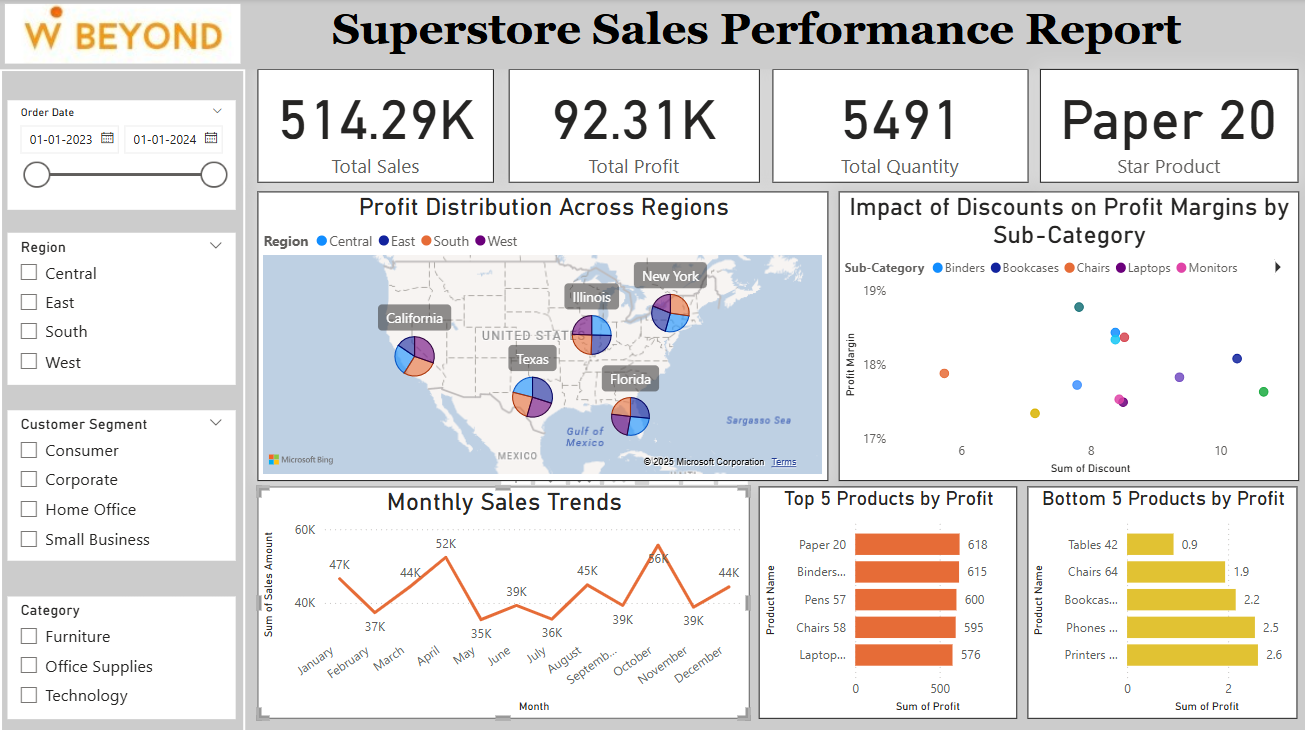

The page's visual inventory and layout, read from the dashboard file:
{"tool":"powerbi","page":{"name":"Sales Report","canvas":[1280,720],"ordinal":0},"visuals":[{"type":"shape","box":[0,68.6,240,651.4],"z":0},{"type":"card","fields":{"Values":["Sum(Sheet1.Sales Amount)"]},"box":[251.4,68.6,231.4,111.4],"z":1000},{"type":"card","fields":{"Values":["Sum(Sheet1.Profit)"]},"box":[497.1,68.6,245.7,111.4],"z":2000},{"type":"card","fields":{"Values":["Sum(Sheet1.Quantity)"]},"box":[755.7,68.6,250,111.4],"z":3000},{"type":"lineChart","title":"Monthly Sales Trends","fields":{"Category":["Sheet1.Order Date.Variation.Date Hierarchy.Year","Sheet1.Order Date.Variation.Date Hierarchy.Quarter","Sheet1.Order Date.Variation.Date Hierarchy.Month","Sheet1.Order Date.Variation.Date Hierarchy.Day"],"Y":["Sum(Sheet1.Sales Amount)"]},"box":[251.4,477.1,481.4,227.1],"z":4000},{"type":"map","title":"Profit Distribution Across Regions","fields":{"Category":["Sheet1.State"],"Size":["Sum(Sheet1.Profit)"],"Series":["Sheet1.Region"]},"box":[251.4,188.6,558.6,282.9],"z":5000},{"type":"barChart","title":"Top 5 Products by Profit","fields":{"Y":["Sum(Sheet1.Profit)"],"Category":["Sheet1.Product Name"]},"box":[742.9,477.1,252.9,227.1],"z":6000},{"type":"scatterChart","title":"Impact of Discounts on Profit Margins by Sub-Category","fields":{"X":["Sum(Sheet1.Discount)"],"Y":["Sheet1.Profit Margin"],"Series":["Sheet1.Sub-Category"],"Category":["Sheet1.Sub-Category"]},"box":[820,188.6,450,282.9],"z":7000},{"type":"slicer","fields":{"Values":["Sheet1.Order Date"]},"box":[7.1,98.6,222.9,107.1],"z":8000},{"type":"slicer","fields":{"Values":["Sheet1.Region"]},"box":[7.1,228.6,222.9,148.6],"z":9000},{"type":"slicer","fields":{"Values":["Sheet1.Customer Segment"]},"box":[7.1,402.9,222.9,147.1],"z":10000},{"type":"slicer","fields":{"Values":["Sheet1.Category"]},"box":[7.1,584.3,222.9,120],"z":11000},{"type":"barChart","title":"Bottom 5 Products by Profit","fields":{"Category":["Sheet1.Product Name"],"Y":["Sum(Sheet1.Profit)"]},"box":[1005.7,477.1,264.3,227.1],"z":12000},{"type":"textbox","box":[0,0,1280,68.6],"z":13000},{"type":"image","box":[0,0,240,68.6],"z":14000},{"type":"card","fields":{"Values":["Min(Sheet1.Product Name)"]},"box":[1017.1,68.6,252.9,111.4],"z":15000}]}

Visuals, with their boxes in screenshot pixels (x1, y1, x2, y2), scaled from the page's 1280x720 canvas onto the 1305x730 screenshot:
shape: <box>0,70,245,729</box>
card - Sum(Sheet1.Sales Amount): <box>256,70,492,182</box>
card - Sum(Sheet1.Profit): <box>507,70,757,182</box>
card - Sum(Sheet1.Quantity): <box>770,70,1025,182</box>
"Monthly Sales Trends" lineChart: <box>256,484,747,714</box>
"Profit Distribution Across Regions" map: <box>256,191,826,478</box>
"Top 5 Products by Profit" barChart: <box>757,484,1015,714</box>
"Impact of Discounts on Profit Margins by Sub-Category" scatterChart: <box>836,191,1295,478</box>
slicer - Sheet1.Order Date: <box>7,100,234,209</box>
slicer - Sheet1.Region: <box>7,232,234,382</box>
slicer - Sheet1.Customer Segment: <box>7,408,234,558</box>
slicer - Sheet1.Category: <box>7,592,234,714</box>
"Bottom 5 Products by Profit" barChart: <box>1025,484,1295,714</box>
textbox: <box>0,0,1304,70</box>
image: <box>0,0,245,70</box>
card - Min(Sheet1.Product Name): <box>1037,70,1295,182</box>
